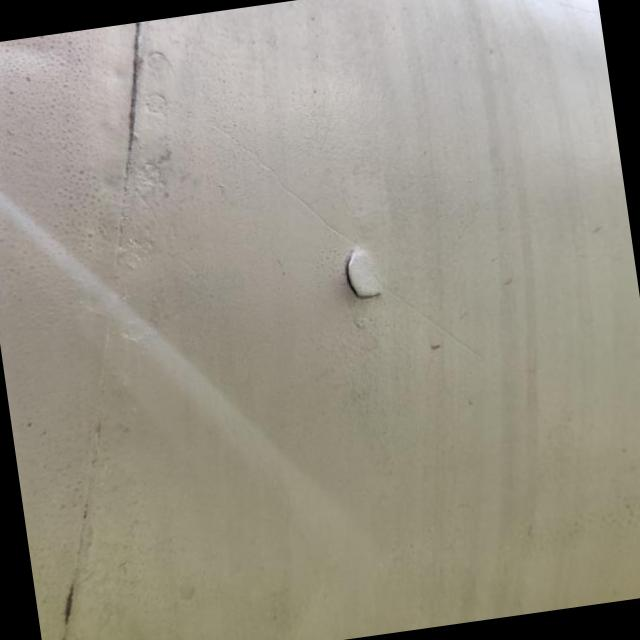Crack: (344, 248, 379, 299)
